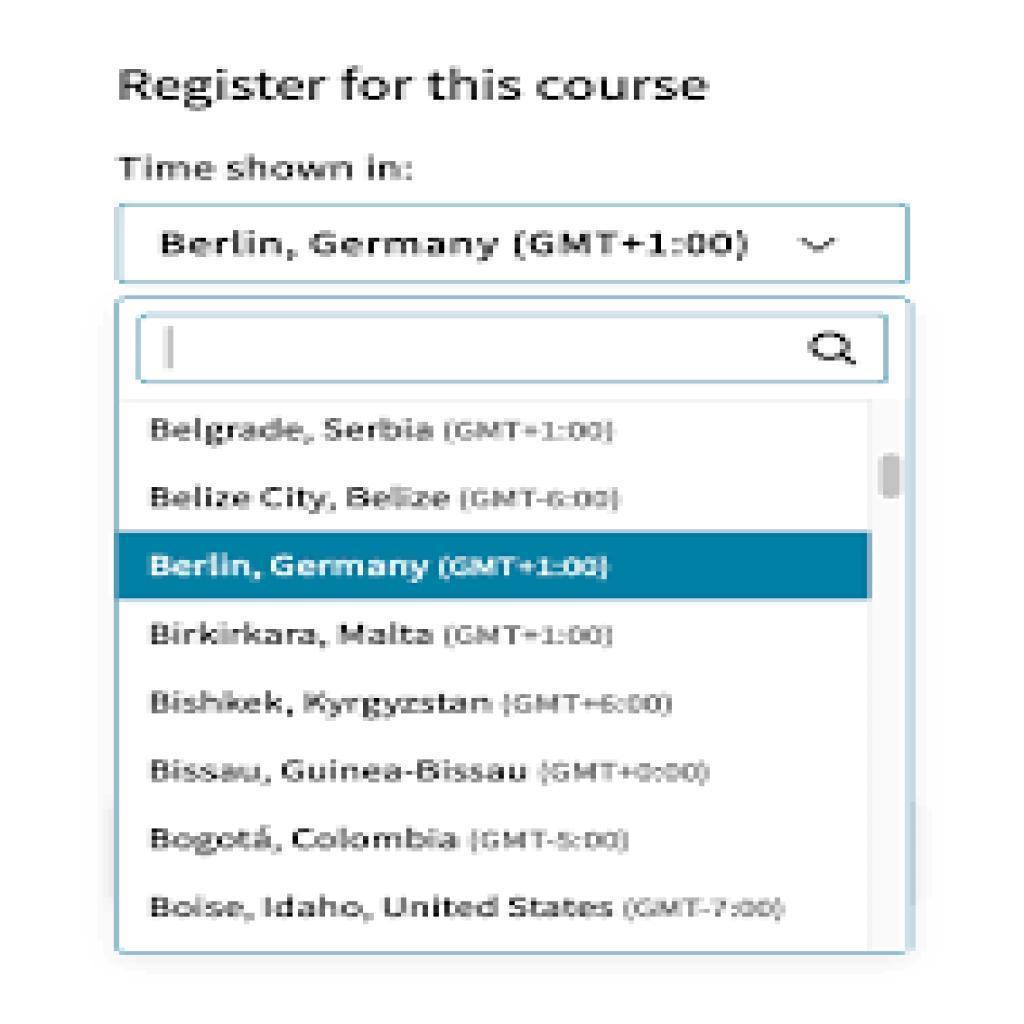dropdown: (116, 205, 909, 286)
input: (138, 314, 886, 384)
